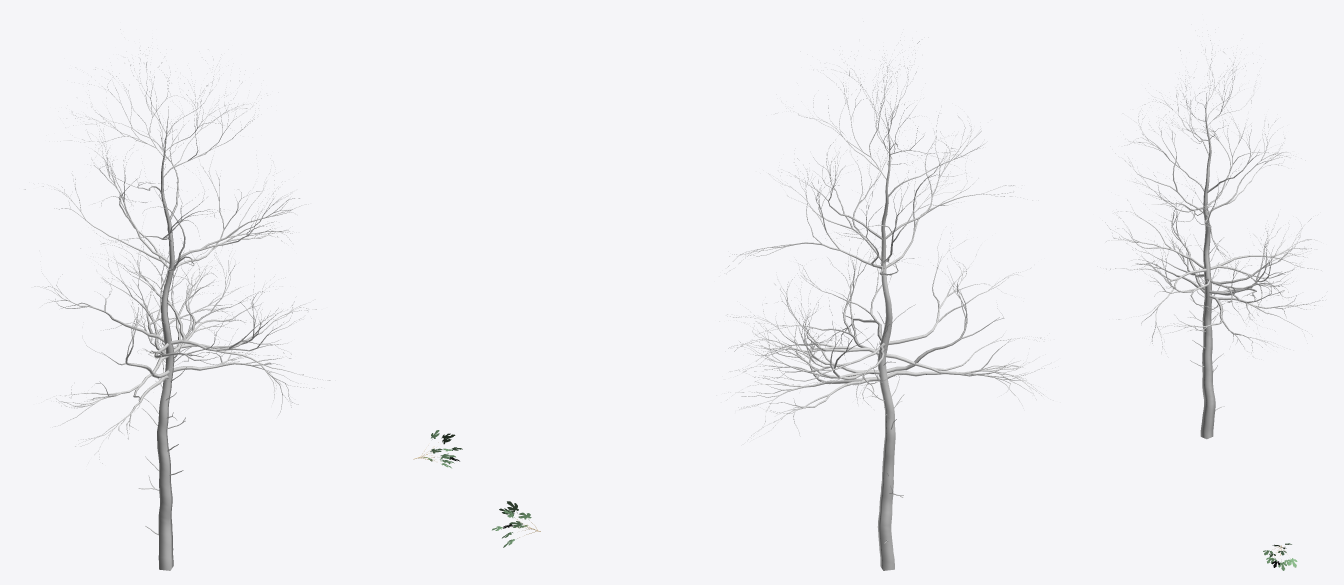
The model's file is arbolQuemado1.fbx.
3 views of the same model, side by side, from view 1: azimuth 30°, elevation 25°; view 2: azimuth 150°, elevation 25°; view 3: azimuth 270°, elevation 25° (orthographic). The views are drawn at different scales.
Parts seen in each view (by area): view 1: Tree; view 2: Tree; view 3: Tree, tree.
Boxes of the visible parts, x1=… form: Tree: x1=23, y1=29, x2=330, y2=570; Tree: x1=724, y1=37, x2=1047, y2=570; Tree: x1=1102, y1=36, x2=1324, y2=439; tree: x1=1263, y1=543, x2=1297, y2=570.
Bounding box in the file's own units: 2977 × 3249 × 1670.
